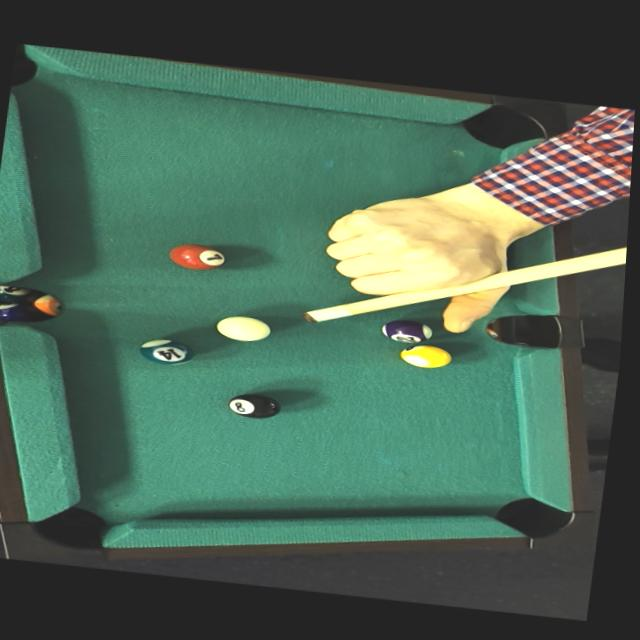cue ball: (214, 313, 280, 347)
other: (156, 237, 232, 274), (369, 314, 447, 348), (392, 339, 458, 372), (133, 333, 197, 366), (225, 390, 282, 422)
